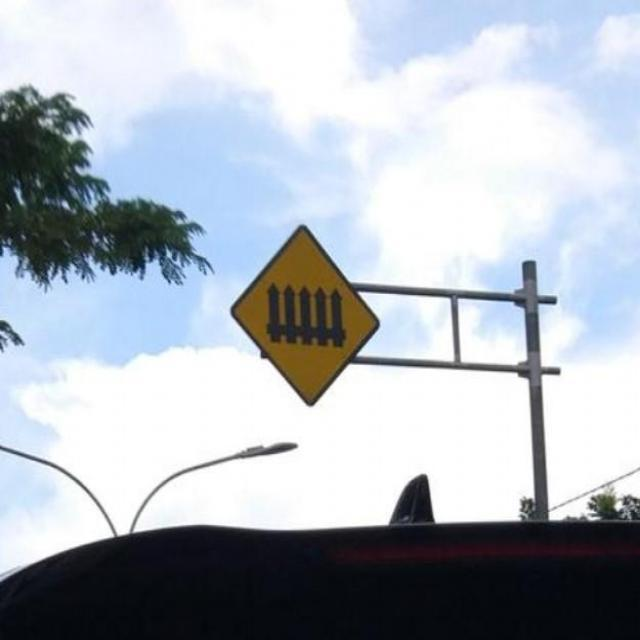traffic sign: (236, 225, 380, 397)
